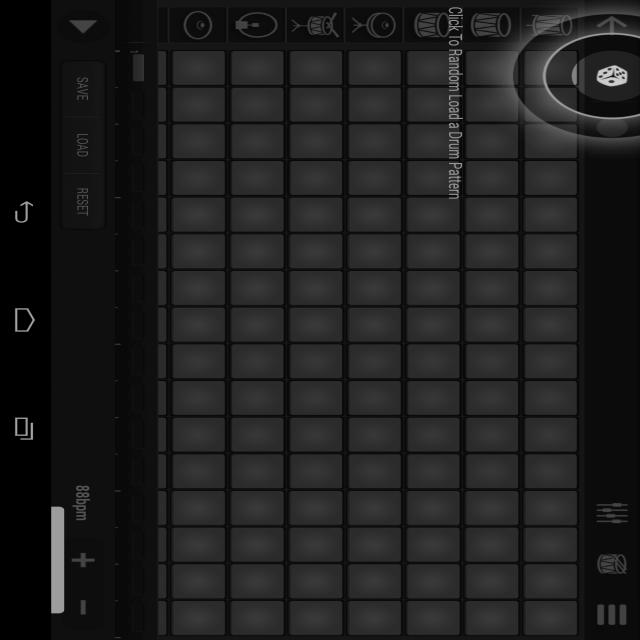Button: (96, 333, 187, 363), (277, 333, 368, 363), (187, 333, 277, 363), (16, 331, 69, 365)
ImageView: (81, 4, 162, 32), (163, 4, 244, 32), (18, 4, 63, 32), (622, 92, 640, 114), (622, 122, 640, 144), (622, 152, 640, 174), (622, 182, 640, 204)
Switch: (622, 58, 640, 87)
TextView: (611, 28, 640, 57), (627, 0, 640, 27)
